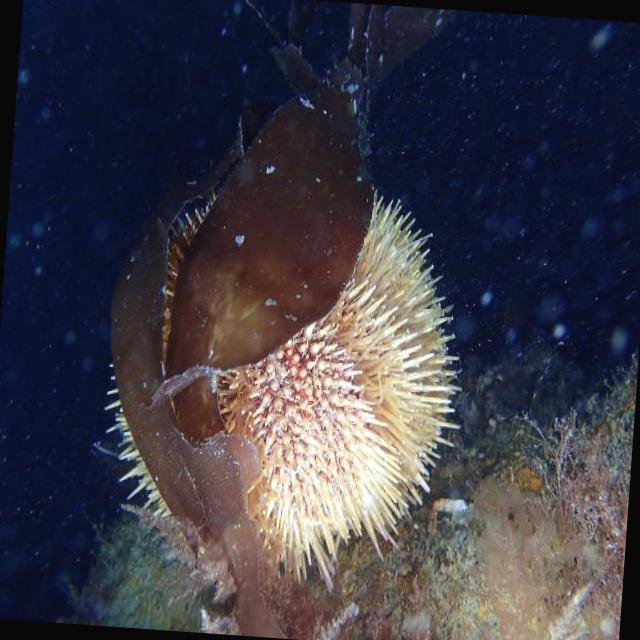Deniz Kestanesi: (91, 158, 472, 597)
